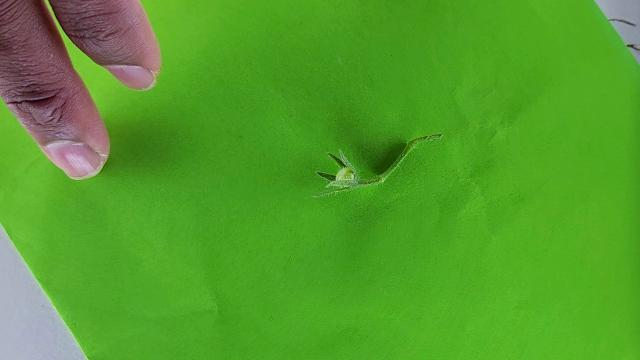Fruit Bud: (319, 149, 361, 195)
